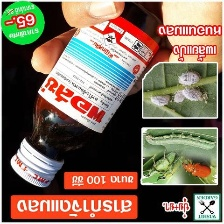insecticide: (8, 0, 168, 190)
